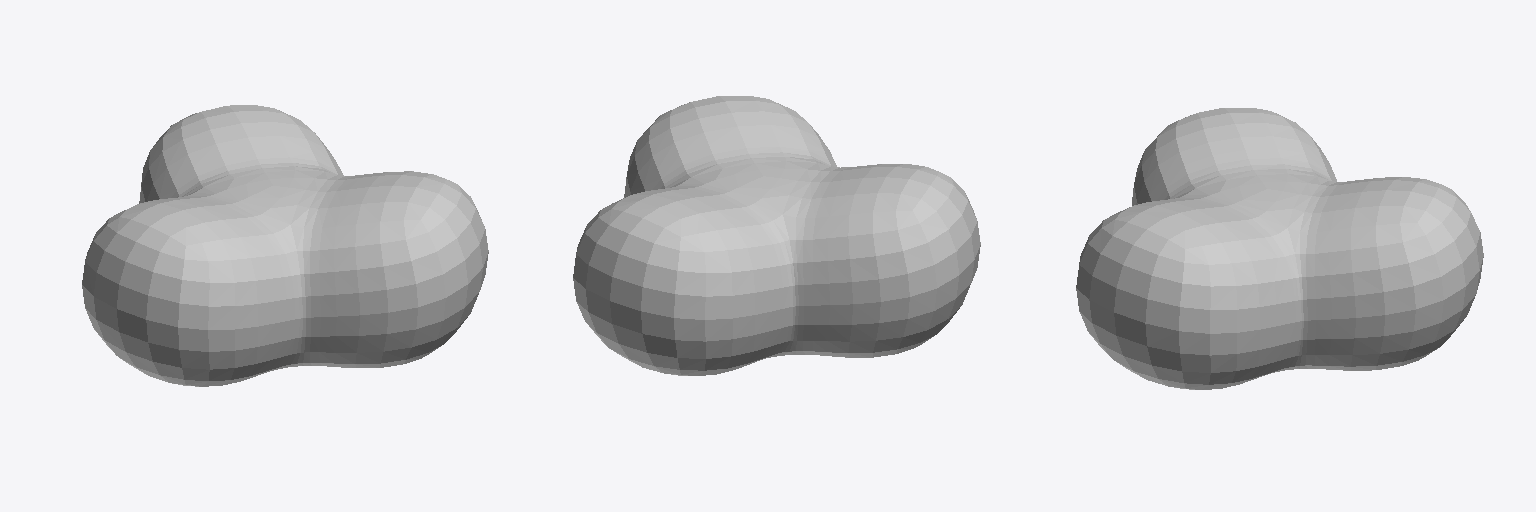
Rendered from Semilla.obj.
The picture shows the model from 3 angles: view 1: azimuth 30°, elevation 25°; view 2: azimuth 150°, elevation 25°; view 3: azimuth 270°, elevation 25°; orthographic projection.
Visible parts, largest first — view 1: Lily_Stigma.001; view 2: Lily_Stigma.001; view 3: Lily_Stigma.001.
Part boxes in pixels (x1,y1,x2,y2): Lily_Stigma.001: (82,105,488,386); Lily_Stigma.001: (573,96,980,375); Lily_Stigma.001: (1076,108,1483,389).
Bounding box in the file's own units: 0.7728 × 0.3621 × 0.7715.